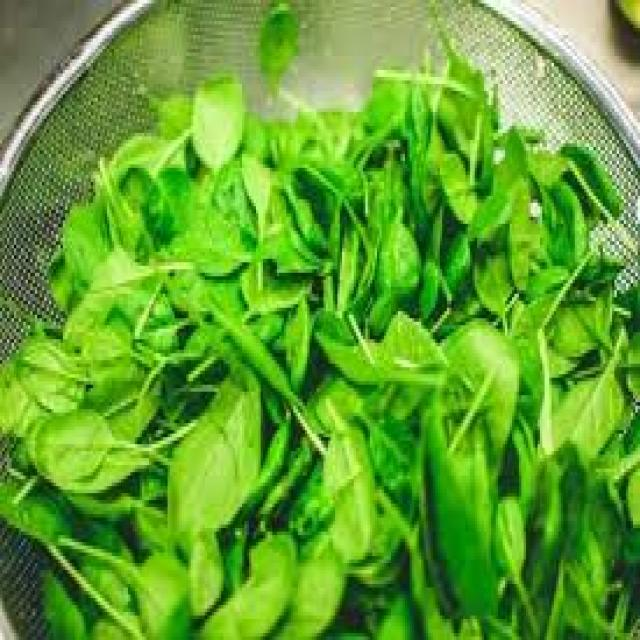organic waste: (0, 31, 638, 636), (219, 161, 370, 521), (512, 150, 638, 476), (233, 105, 456, 283), (321, 196, 535, 381), (417, 318, 512, 616), (81, 136, 205, 343), (68, 489, 228, 636), (44, 192, 165, 371), (128, 73, 254, 231), (528, 462, 638, 636), (533, 290, 638, 472), (163, 360, 256, 556), (202, 528, 368, 637), (68, 286, 160, 476), (161, 213, 270, 371), (310, 388, 414, 553), (0, 290, 77, 486), (333, 56, 444, 175), (253, 507, 339, 637), (454, 126, 563, 224), (0, 465, 98, 570), (431, 32, 494, 172), (42, 563, 151, 637), (182, 74, 249, 178), (554, 129, 621, 224), (256, 0, 296, 91), (612, 0, 637, 24)
